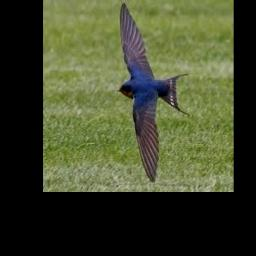Swallow: (117, 2, 189, 183)
